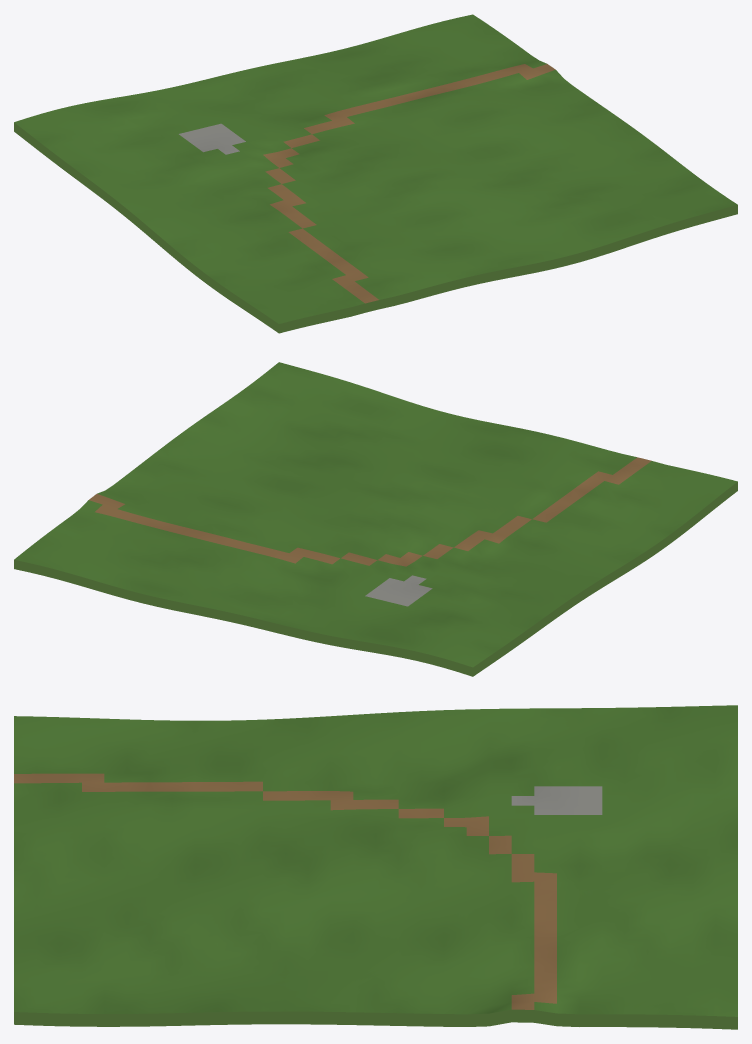
The model's file is chunk_0_0_lod1.glb.
The picture shows the model from 3 angles, top to bottom: view 1: azimuth 30°, elevation 25°; view 2: azimuth 150°, elevation 25°; view 3: azimuth 270°, elevation 25°; orthographic projection. The views are drawn at different scales.
Visible parts, largest first — view 1: Surface_Grass, Skirt, Surface_Dirt, Surface_Gravel; view 2: Surface_Grass, Skirt, Surface_Dirt, Surface_Gravel; view 3: Surface_Grass, Surface_Dirt, Skirt, Surface_Gravel.
Boxes of the visible parts, x1,y1,x2,y2 form: Surface_Grass: (14, 14, 737, 323); Skirt: (14, 122, 737, 333); Surface_Dirt: (263, 64, 555, 303); Surface_Gravel: (179, 123, 245, 154); Surface_Grass: (14, 362, 737, 667); Skirt: (14, 482, 737, 676); Surface_Dirt: (89, 457, 651, 566); Surface_Gravel: (365, 575, 432, 606); Surface_Grass: (14, 705, 737, 1016); Surface_Dirt: (14, 773, 556, 1009); Skirt: (14, 1009, 737, 1029); Surface_Gravel: (511, 786, 602, 814).
Bounding box in the file's own units: 256 × 12.28 × 256.
